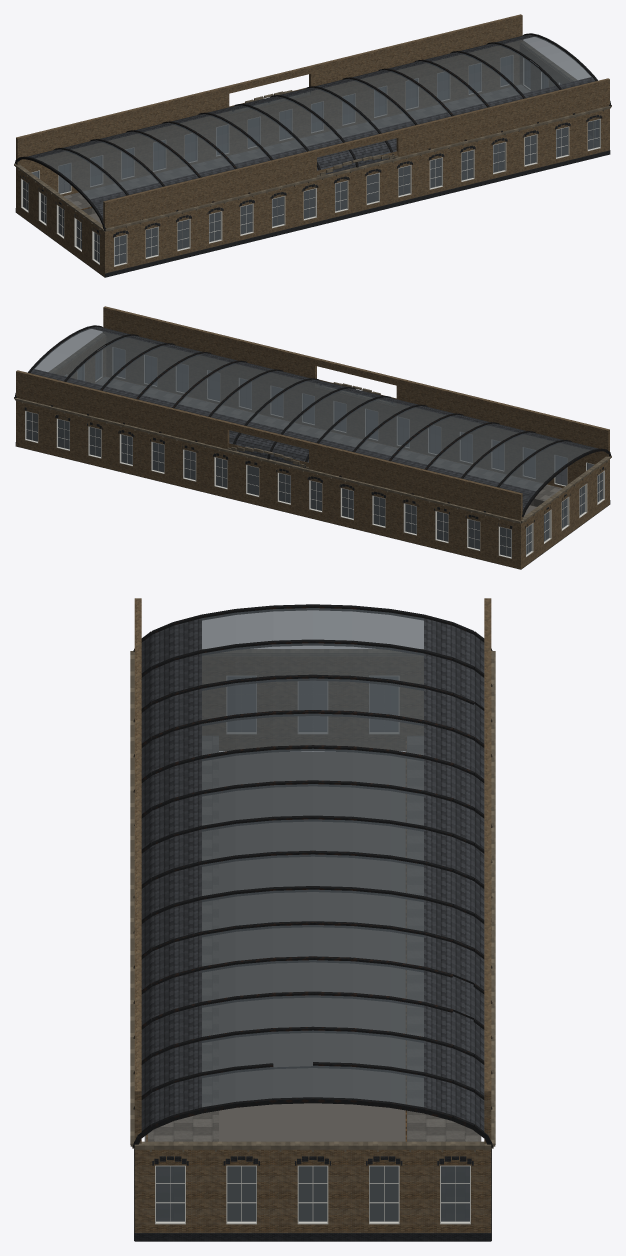
Rendered from A_station.glb.
3 renders of one model, top to bottom at view 1: azimuth 30°, elevation 25°; view 2: azimuth 150°, elevation 25°; view 3: azimuth 270°, elevation 25°, orthographic. The views are drawn at different scales.
Visible parts, largest first — view 1: A_station; view 2: A_station; view 3: A_station.
Part boxes in pixels (x1,y1,x2,y2): A_station: (14,14,611,277); A_station: (14,306,611,569); A_station: (130,598,495,1241).
Size of the model in its own units: 72.55 by 10.2 by 22.55.
10 materials, 7 textured.
